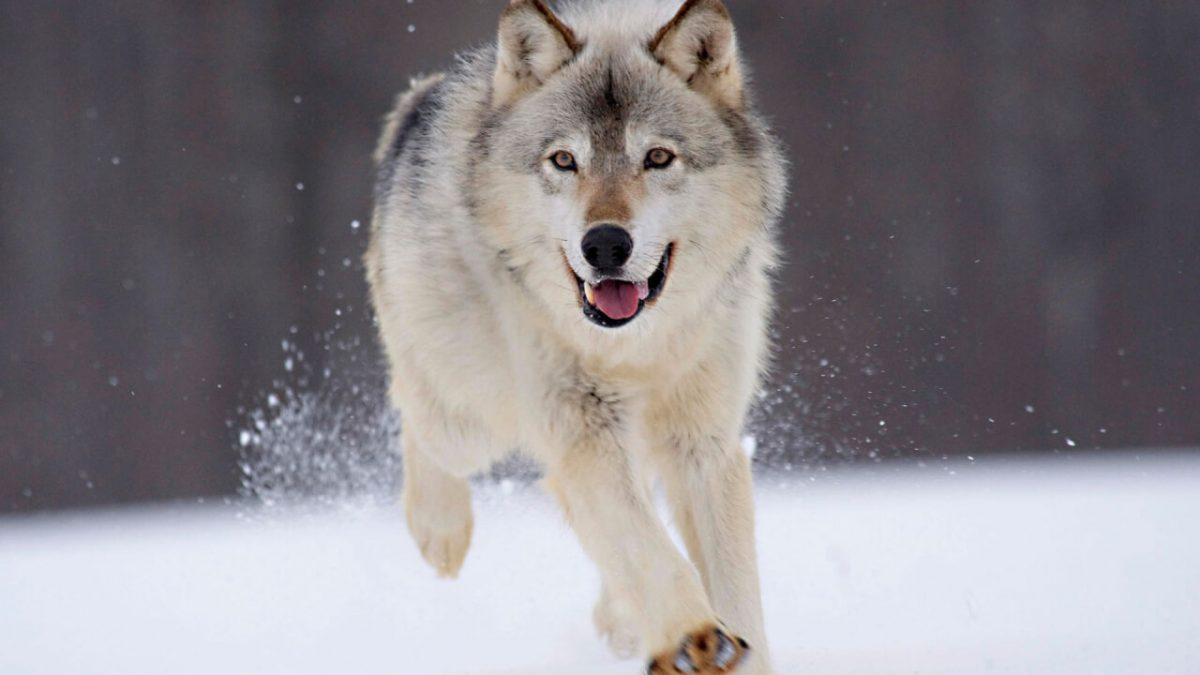Lobo: (227, 1, 827, 675)
